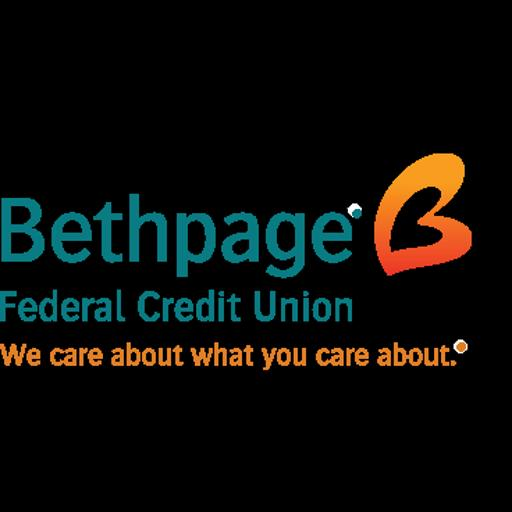Bethpage Federal Credit Union: (0, 109, 512, 402)
